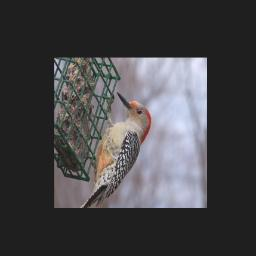Woodpecker: (84, 93, 152, 207)
